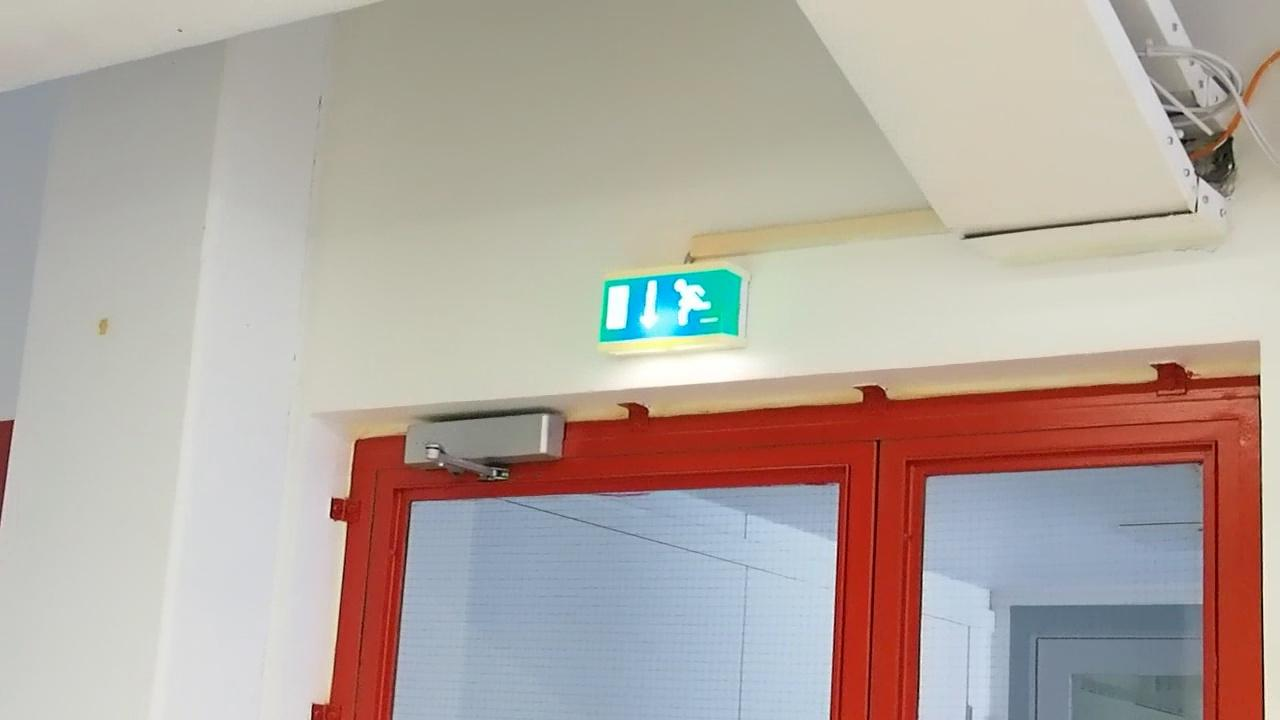exit: (597, 269, 749, 347)
